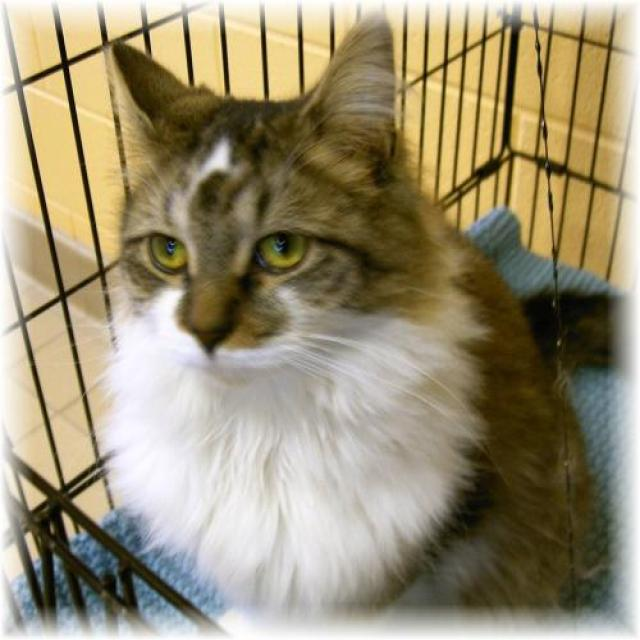Cats: (82, 11, 618, 621)
